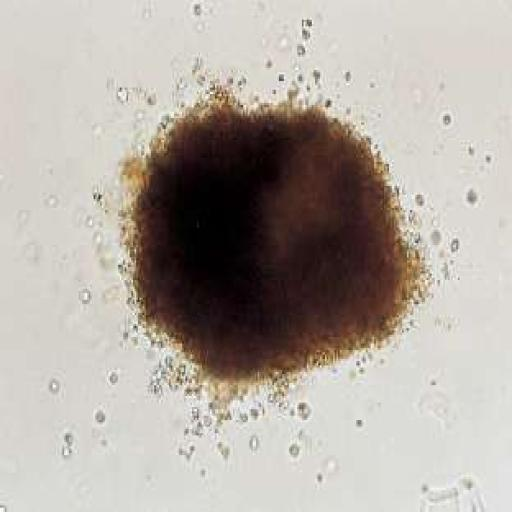BFU-E: (123, 90, 422, 398)
